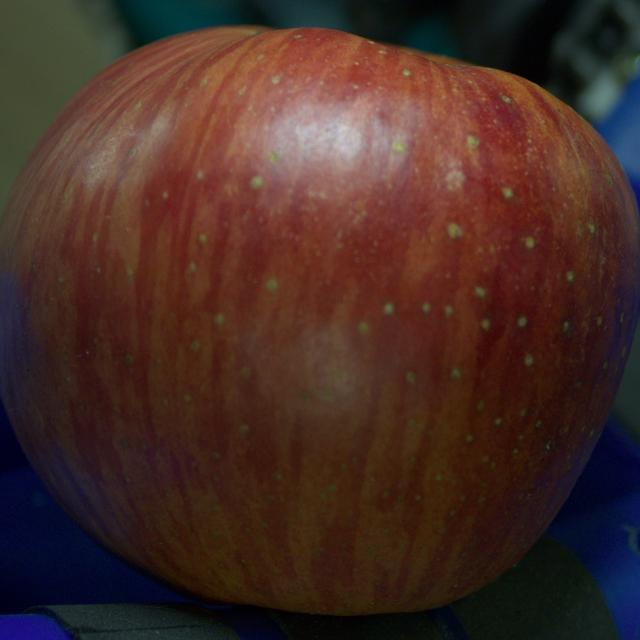apple: (0, 28, 639, 614)
